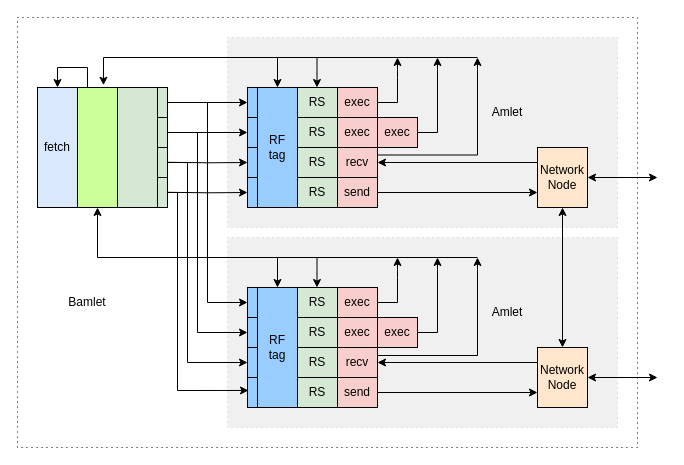
Some shapes in this 684 by 465 pixel diagram are drawn without their labels. The centre of each missing label's shape, as x and y in pixels:
"dep check" goes at point 137,147.
"loop unroll" goes at point 97,147.
